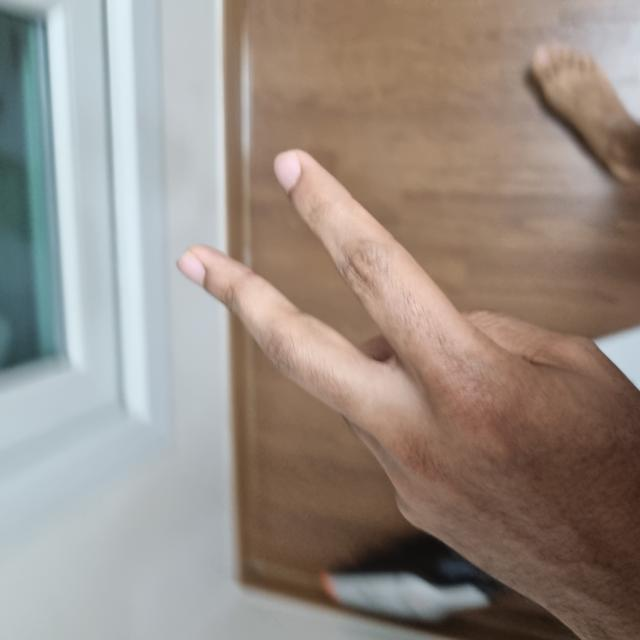Scissors: (1, 183, 489, 639)
